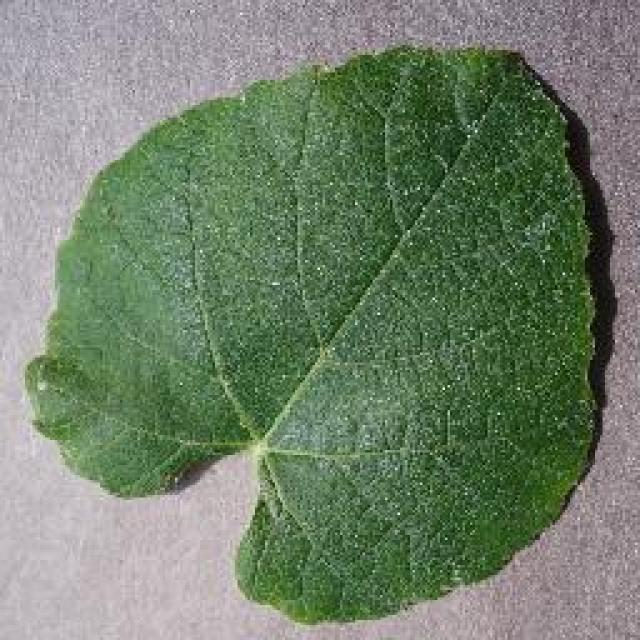Grape___healthy: (28, 48, 592, 620)
